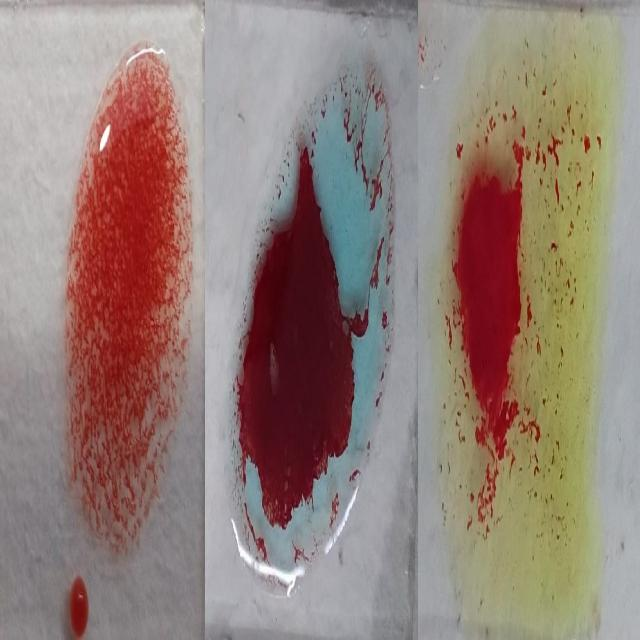A: (228, 49, 396, 582)
B: (438, 31, 589, 596)
D: (62, 34, 188, 533)
